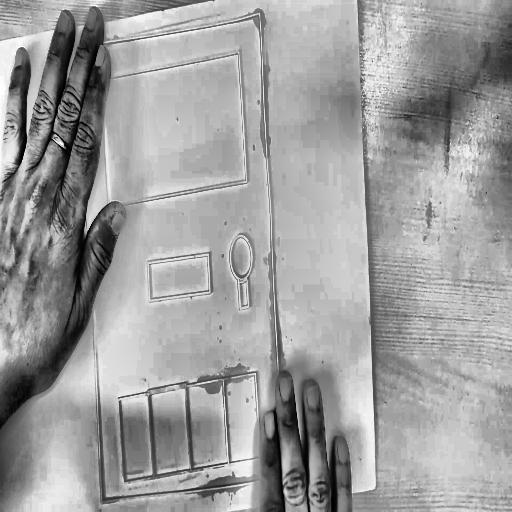bottom_right: (371, 481, 380, 497)
door: (71, 6, 292, 511)
